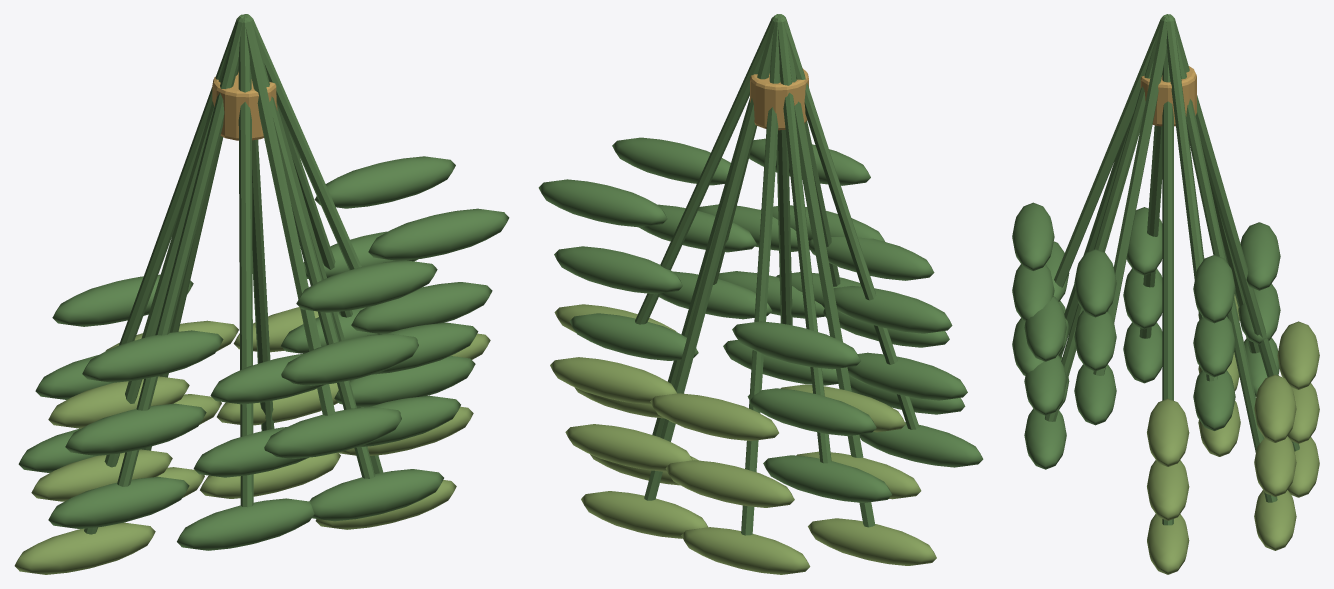
Rendered from SM_HH_Art_DriedHerbs.fbx.
The picture shows the model from 3 angles, left to right: view 1: azimuth 30°, elevation 25°; view 2: azimuth 150°, elevation 25°; view 3: azimuth 270°, elevation 25°; orthographic projection. The views are drawn at different scales.
Visible parts, largest first — view 1: HH_Art_DriedHerbs; view 2: HH_Art_DriedHerbs; view 3: HH_Art_DriedHerbs.
Part boxes in pixels (left/top/right/bottom): HH_Art_DriedHerbs: left=14, top=14, right=509, bottom=574; HH_Art_DriedHerbs: left=538, top=14, right=983, bottom=574; HH_Art_DriedHerbs: left=1012, top=14, right=1319, bottom=574.
Size of the model in its own units: 0.3187 by 0.4837 by 0.548.
